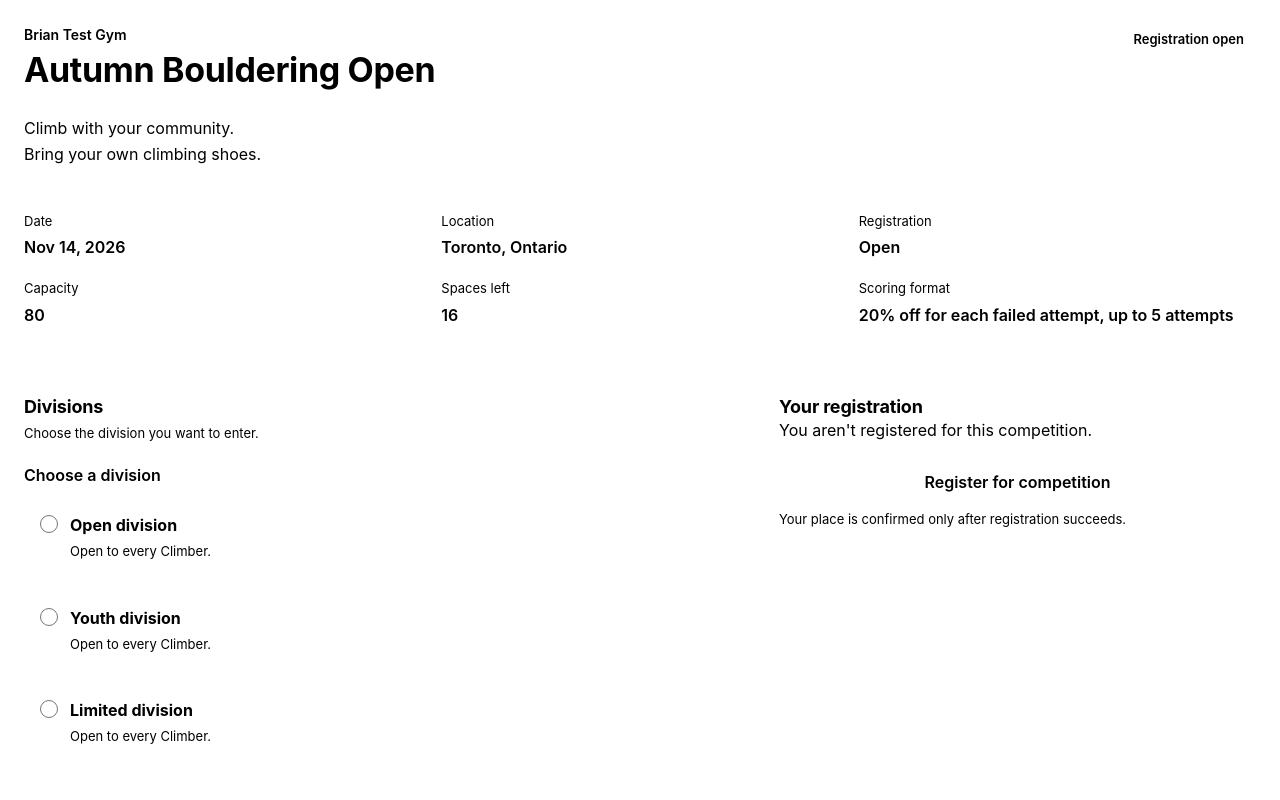
Scenario: US-028 event layout and division registration (isolated UI fixtures) › does not label a returned PENDING registration as confirmed
The width and height of the screenshot is (1280, 800).
Click the radio button labelled "Open division" at (49, 524), box [40, 516, 58, 534]
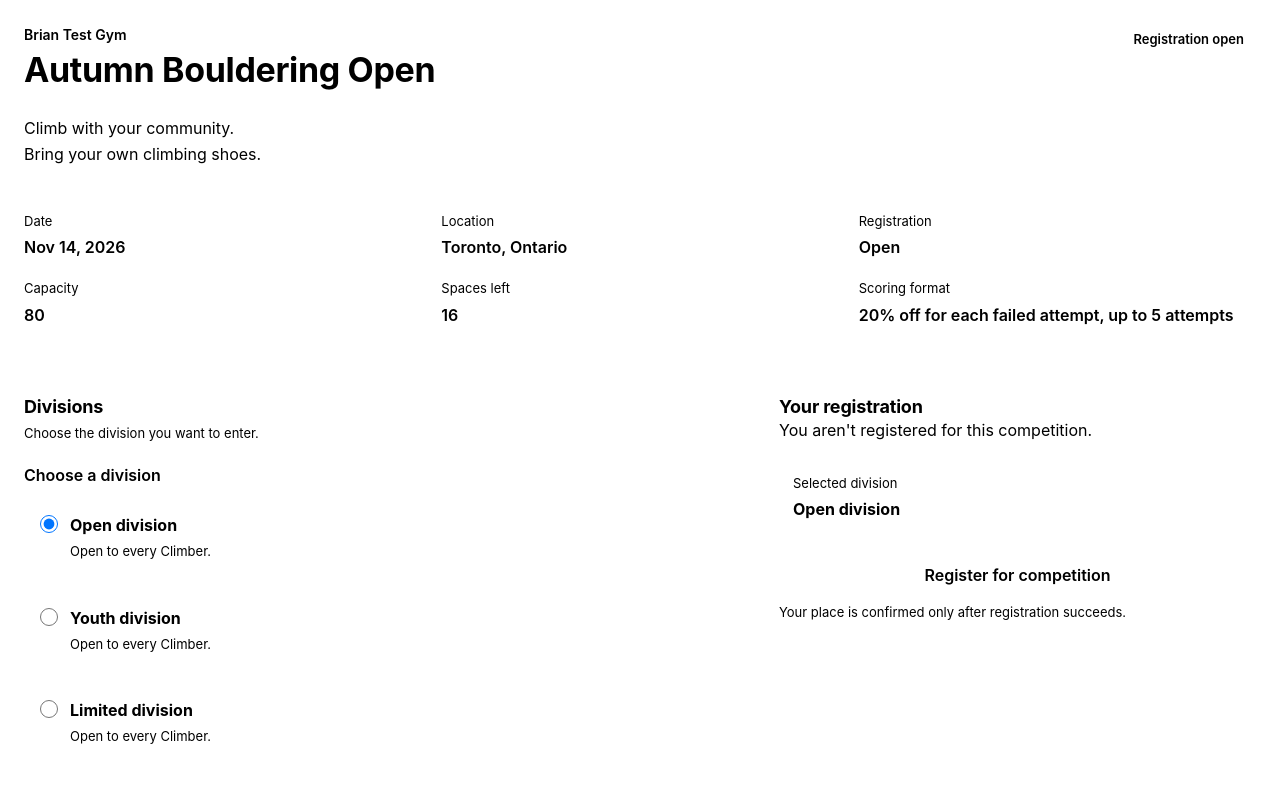
Submit the form named "Competition registration", box [0, 371, 1279, 787]
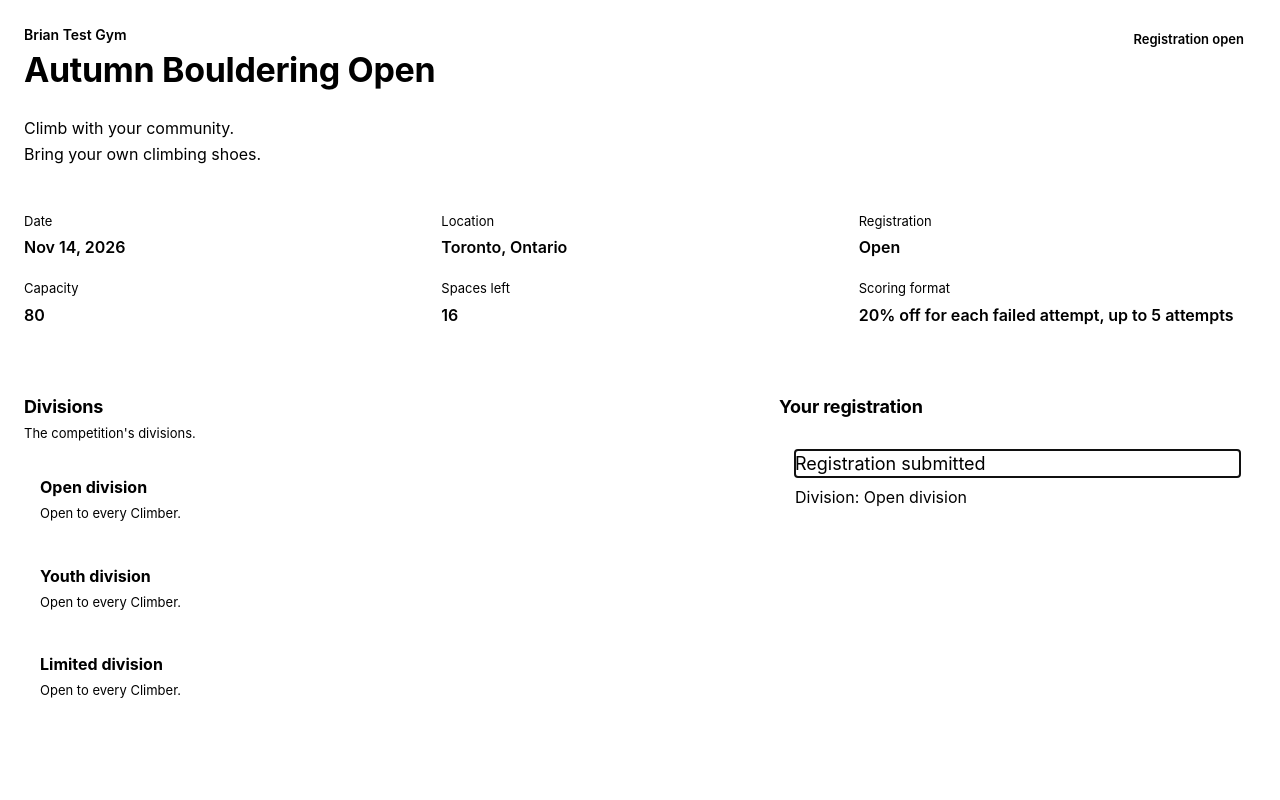
Check: the heading "Registration submitted" is shown, box [795, 453, 986, 474]
